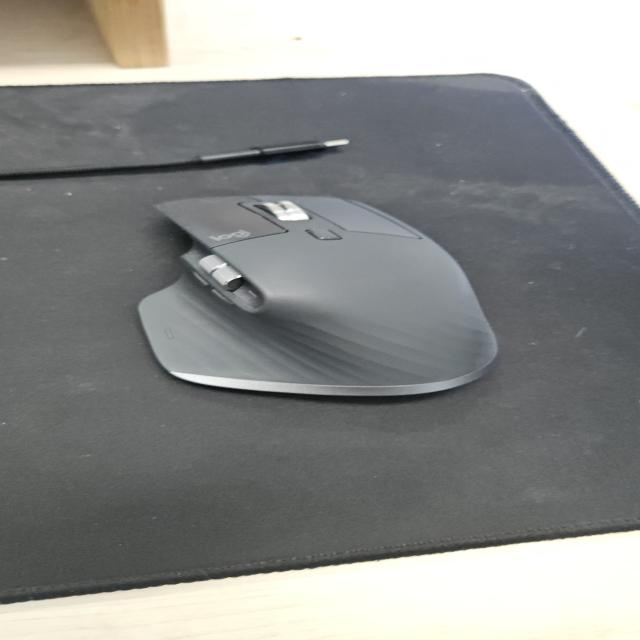Mouse: (134, 192, 503, 398)
